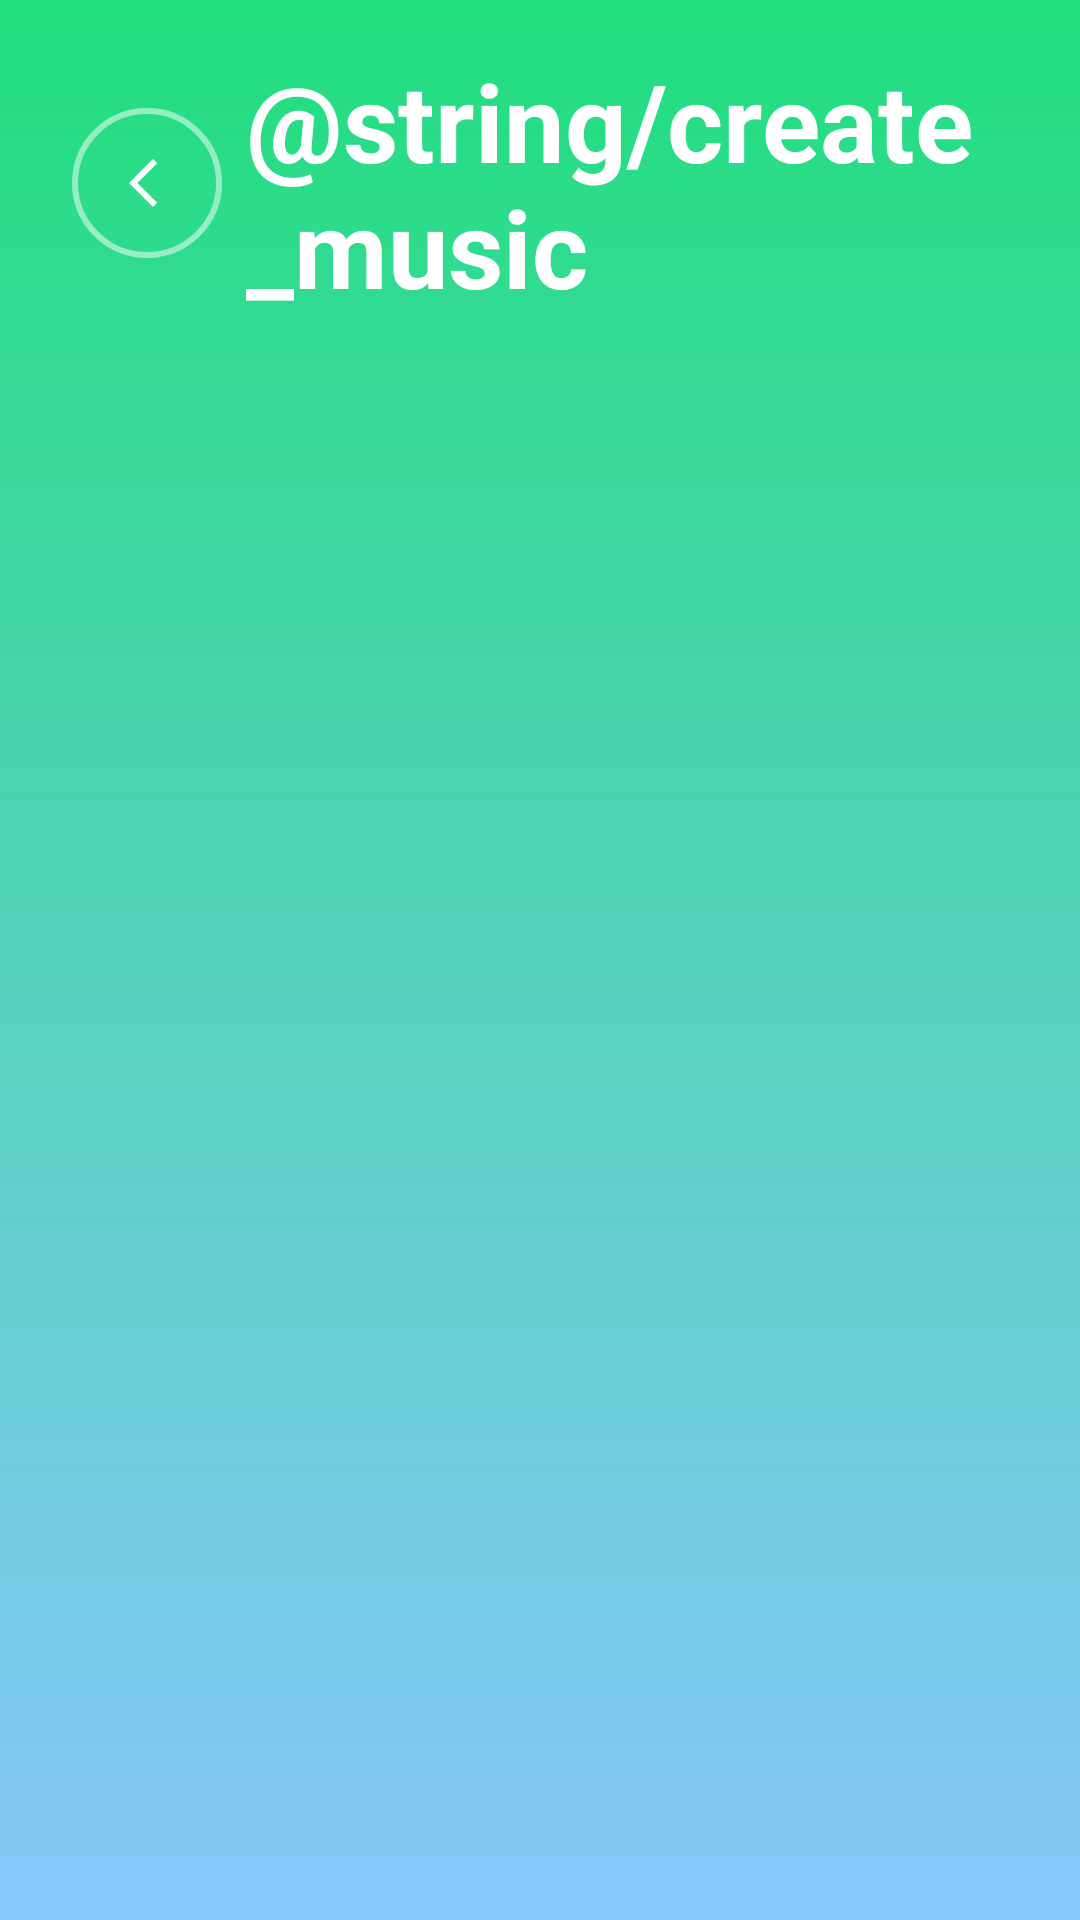

Where to tap for icons on this 1080 x 1920 app screen, as (x,y):
Назад: (147,183)
